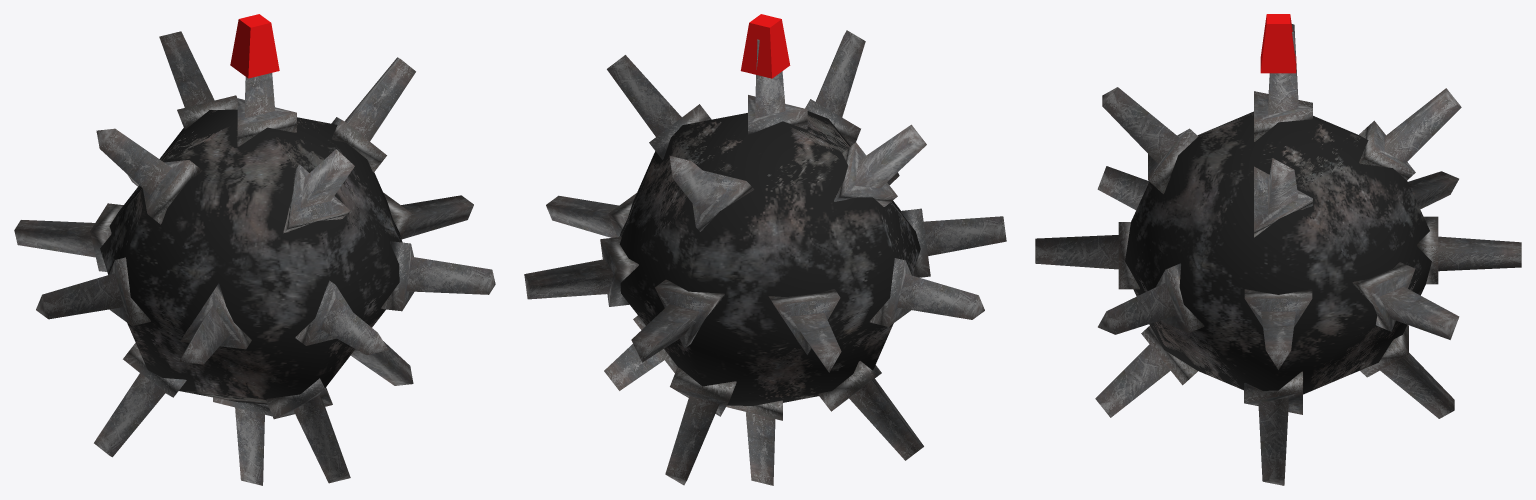
The model's file is mine1.fbx.
The picture shows the model from 3 angles, left to right: view 1: azimuth 30°, elevation 25°; view 2: azimuth 150°, elevation 25°; view 3: azimuth 270°, elevation 25°; orthographic projection.
Visible parts, largest first — view 1: Mine, Cylinder_8, Cylinder_10, Cylinder_0, Cylinder_9, Cylinder_15, Cylinder_6, Cylinder_14, Cylinder_13, Cylinder_1, Cylinder_11, Cylinder_7 (+5 smaller); view 2: Mine, Cylinder_12, Cylinder_8, Cylinder_17, Cylinder_0, Cylinder_3, Cylinder_14, Cylinder_7, Cylinder_9, Cylinder_13, Cylinder_6, Cylinder_11 (+5 smaller); view 3: Mine, Cylinder_12, Cylinder_11, Cylinder_6, Cylinder_3, Cylinder_16, Cylinder_10, Cylinder_1, Cylinder_15, Cylinder_17, Cylinder_2, Cylinder_9 (+4 smaller).
Part boxes in pixels (left/top/right/bottom): Mine: left=100, top=109, right=402, bottom=404; Cylinder_8: left=96, top=128, right=202, bottom=224; Cylinder_10: left=381, top=241, right=495, bottom=311; Cylinder_0: left=36, top=257, right=150, bottom=326; Cylinder_9: left=331, top=57, right=415, bottom=172; Cylinder_15: left=266, top=378, right=350, bottom=483; Cylinder_6: left=283, top=149, right=354, bottom=233; Cylinder_14: left=94, top=342, right=186, bottom=457; Cylinder_13: left=14, top=203, right=123, bottom=271; Cylinder_1: left=295, top=280, right=388, bottom=355; Cylinder_11: left=159, top=31, right=237, bottom=129; Cylinder_7: left=179, top=283, right=251, bottom=364; Mine: left=619, top=111, right=920, bottom=405; Cylinder_12: left=524, top=237, right=638, bottom=306; Cylinder_8: left=834, top=124, right=926, bottom=206; Cylinder_17: left=665, top=367, right=736, bottom=485; Cylinder_0: left=870, top=258, right=984, bottom=326; Cylinder_3: left=631, top=279, right=724, bottom=362; Cylinder_14: left=818, top=361, right=923, bottom=460; Cylinder_7: left=900, top=208, right=1006, bottom=277; Cylinder_9: left=607, top=55, right=711, bottom=159; Cylinder_13: left=768, top=289, right=841, bottom=372; Cylinder_6: left=805, top=30, right=865, bottom=145; Cylinder_11: left=669, top=155, right=754, bottom=231; Mine: left=1125, top=111, right=1431, bottom=394; Cylinder_12: left=1352, top=262, right=1459, bottom=339; Cylinder_11: left=1359, top=88, right=1461, bottom=180; Cylinder_6: left=1102, top=87, right=1198, bottom=193; Cylinder_3: left=1417, top=216, right=1521, bottom=284; Cylinder_16: left=1244, top=371, right=1302, bottom=485; Cylinder_10: left=1098, top=263, right=1204, bottom=334; Cylinder_1: left=1035, top=222, right=1139, bottom=289; Cylinder_15: left=1095, top=326, right=1197, bottom=417; Cylinder_17: left=1360, top=325, right=1454, bottom=418; Cylinder_2: left=1244, top=289, right=1312, bottom=369; Cylinder_9: left=1254, top=158, right=1312, bottom=237.
Bounding box in the file's own units: 0.3634 × 0.3746 × 0.3634.
Materials: 2 (1 with a texture image).
